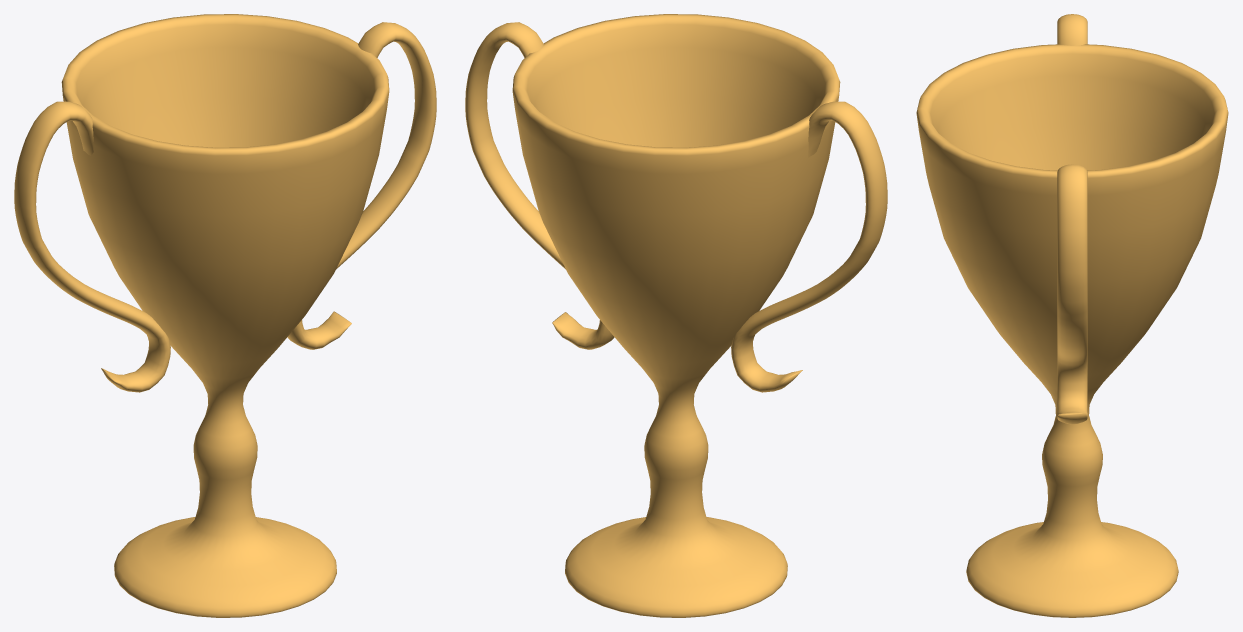
Rendered from trophy_1.fbx.
3 renders of one model, left to right at view 1: azimuth 30°, elevation 25°; view 2: azimuth 150°, elevation 25°; view 3: azimuth 270°, elevation 25°, orthographic. The views are drawn at different scales.
Parts seen in each view (by area): view 1: Cylinder.005; view 2: Cylinder.005; view 3: Cylinder.005.
Boxes of the visible parts, bbox=[...] form: Cylinder.005: bbox=[14, 14, 436, 617]; Cylinder.005: bbox=[465, 14, 887, 617]; Cylinder.005: bbox=[916, 14, 1228, 617].
Bounding box in the file's own units: 0.8525 × 0.9956 × 0.5838.
